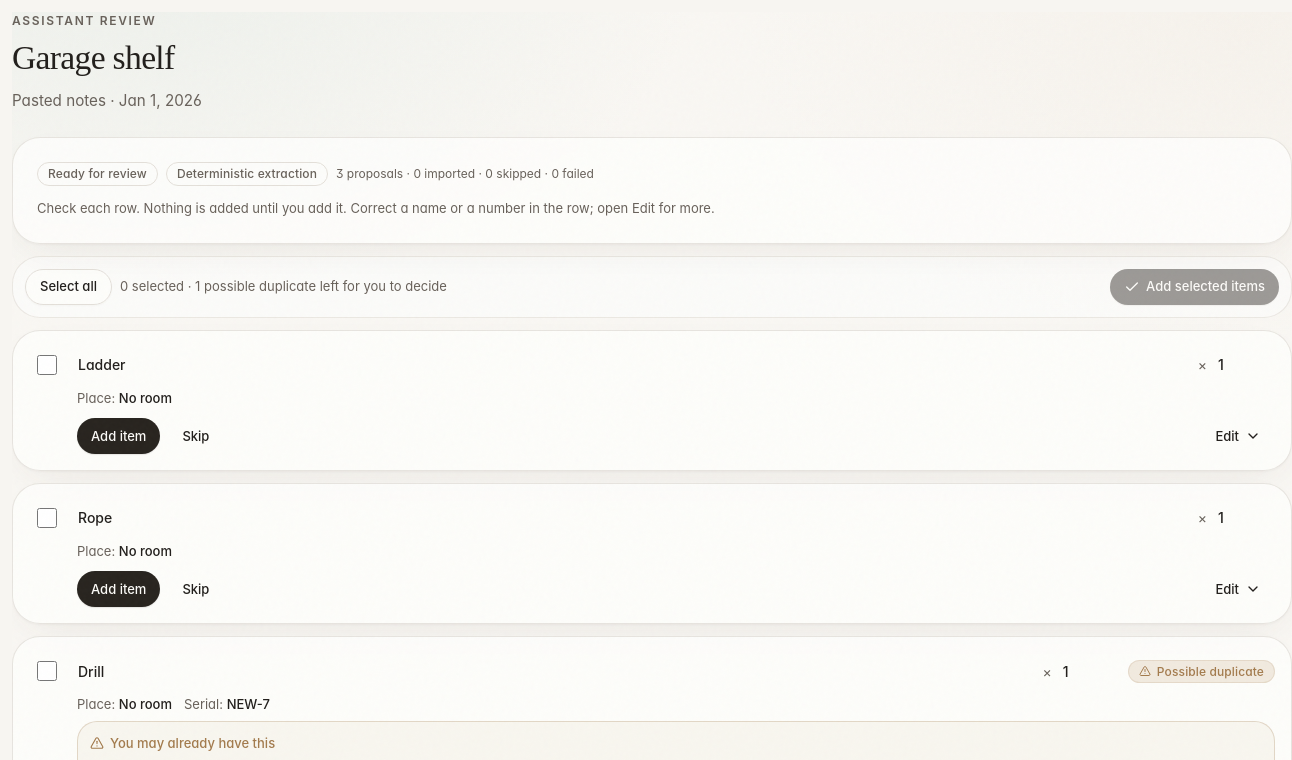
it: ImportDetailPage review › explains a missing name beside the field and sends nothing
expect the element named "Rope" is shown: met, box [12, 483, 1291, 624]
Clear the field named "Name of Rope" at (630, 518), box [71, 500, 1190, 536]
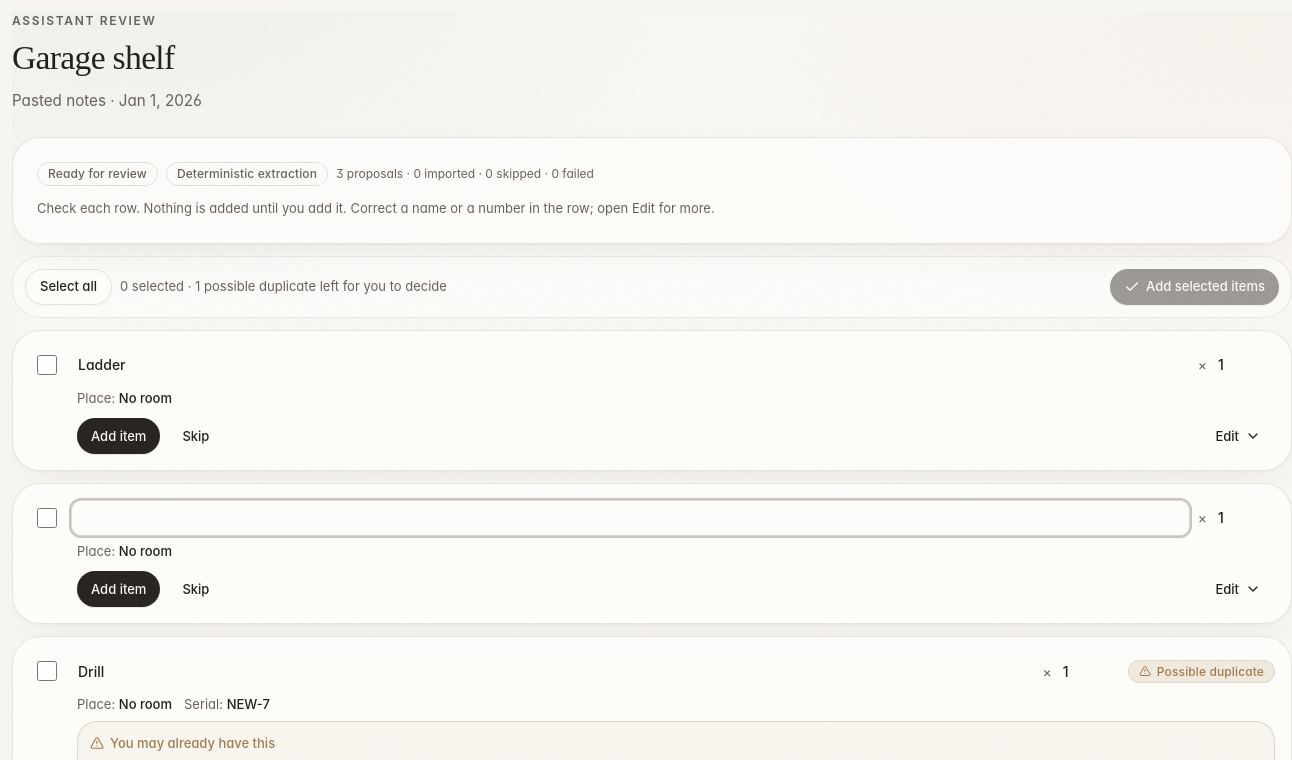
Click the 2nd button "Add item" at (119, 589), box [77, 571, 160, 607]
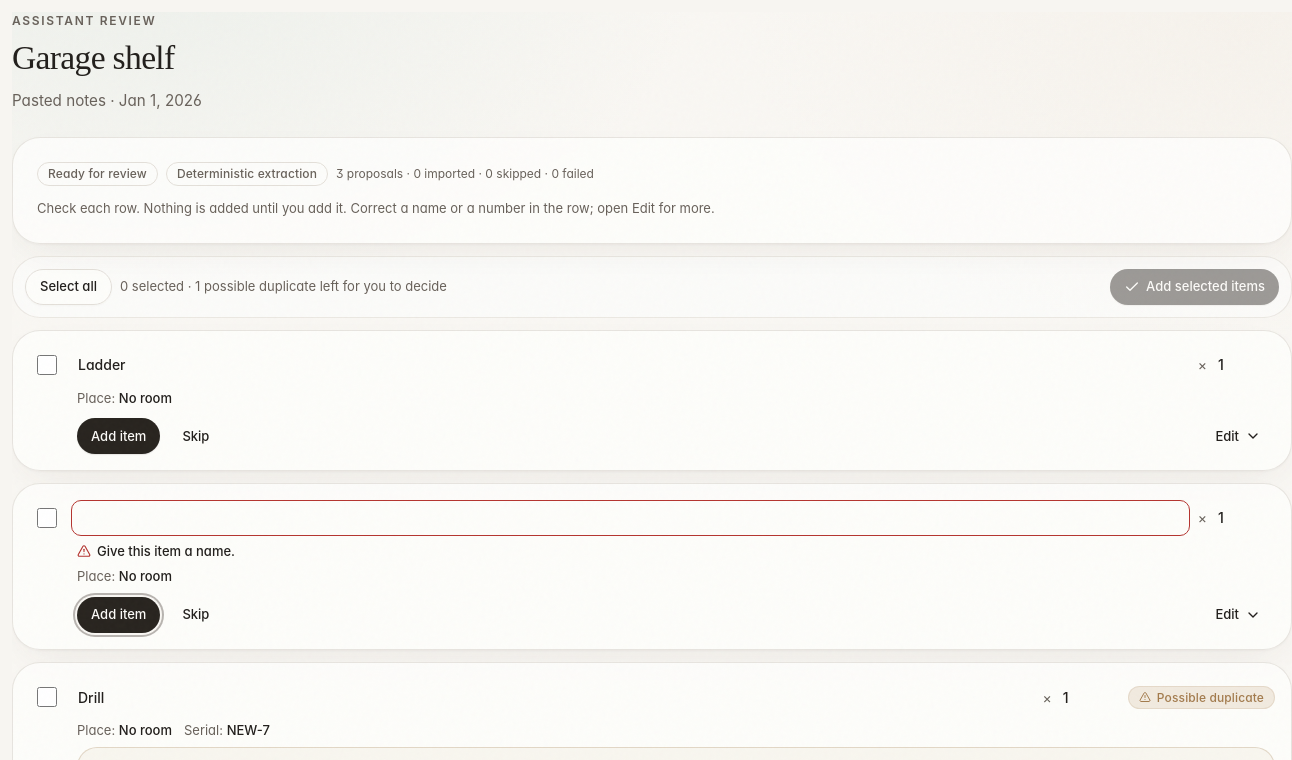
expect the message "Give this item a name." is shown: met, box [77, 543, 235, 559]
